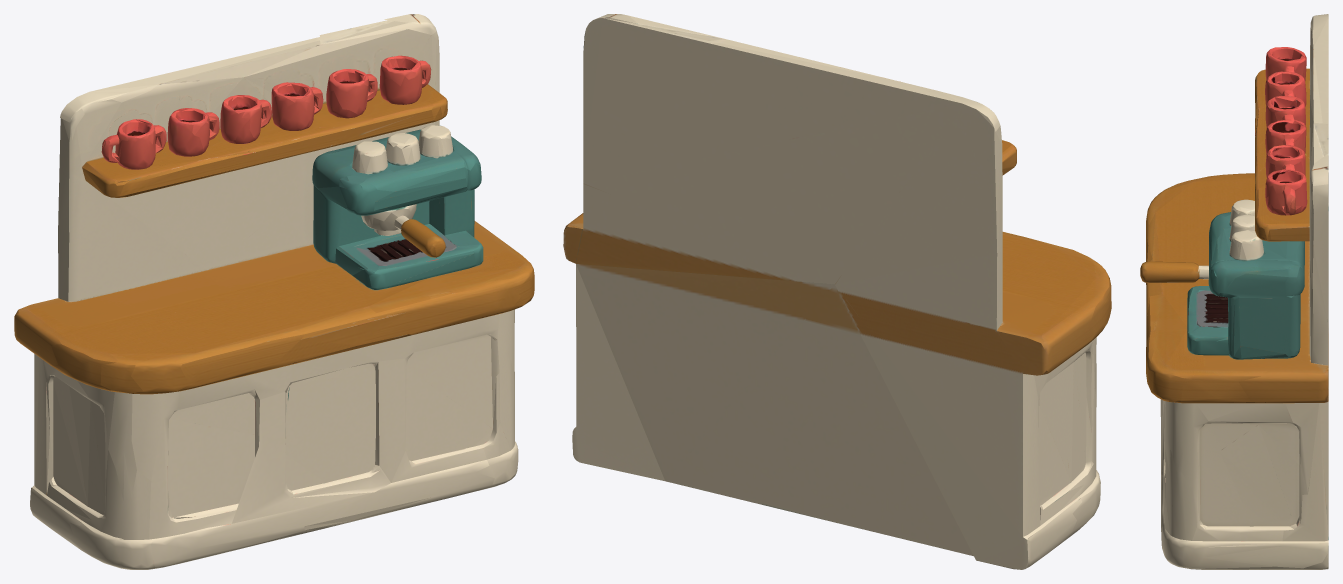
Rendered from beverageBar.glb.
3 views of the same model, side by side, from view 1: azimuth 30°, elevation 25°; view 2: azimuth 150°, elevation 25°; view 3: azimuth 270°, elevation 25° (orthographic). The views are drawn at different scales.
Visible parts, largest first — view 1: Mesh_0; view 2: Mesh_0; view 3: Mesh_0.
Boxes of the visible parts, <box> form: Mesh_0: <box>14,14,534,569</box>; Mesh_0: <box>563,14,1111,569</box>; Mesh_0: <box>1140,14,1328,569</box>.
Size of the model in its own units: 1.8 by 1.61 by 0.7.
1 material, 1 textured.
